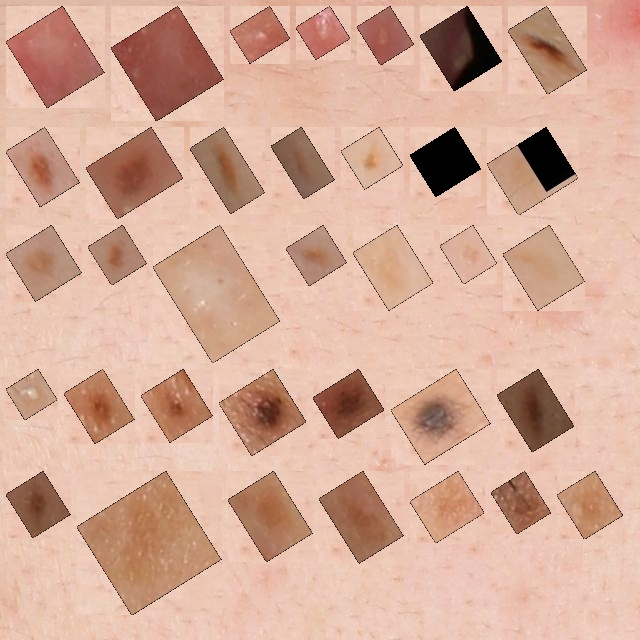hypertrophic_scar: (164, 236, 269, 352), (122, 17, 213, 110), (17, 17, 93, 97)
melasma: (88, 482, 210, 604), (498, 138, 567, 204), (330, 482, 392, 552), (239, 482, 301, 550), (514, 236, 574, 299), (364, 236, 422, 299), (201, 138, 254, 202), (421, 482, 473, 532), (421, 138, 470, 186), (282, 138, 323, 188), (568, 482, 612, 528), (352, 138, 392, 178), (502, 482, 540, 523), (451, 236, 486, 273)
nevus: (402, 380, 479, 453), (97, 138, 172, 208), (230, 380, 295, 444), (519, 17, 576, 83), (508, 380, 563, 441), (17, 138, 68, 195), (17, 236, 70, 290), (152, 380, 202, 431), (75, 380, 123, 432), (324, 380, 373, 427), (17, 482, 59, 527), (99, 236, 136, 274)
pustule: (431, 17, 491, 80), (241, 17, 279, 52), (368, 17, 403, 54), (307, 17, 339, 48), (17, 380, 46, 409)
